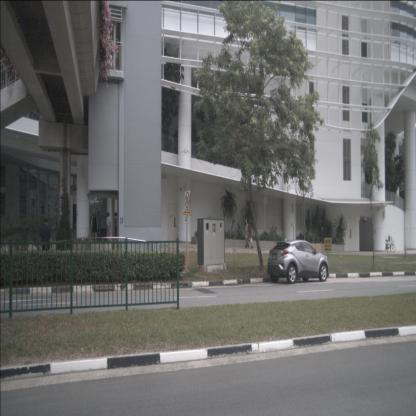human-pedestrian-adult: (39, 218, 53, 274), (91, 209, 98, 243), (246, 222, 253, 249), (96, 211, 102, 239), (113, 212, 118, 241), (106, 212, 111, 241), (245, 219, 249, 248)
vehicle-bicycle: (385, 236, 396, 252), (384, 240, 391, 252)
vehicle-car: (268, 240, 329, 284)
